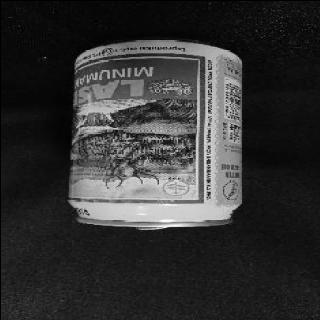alumunium_can: (65, 36, 241, 229)
